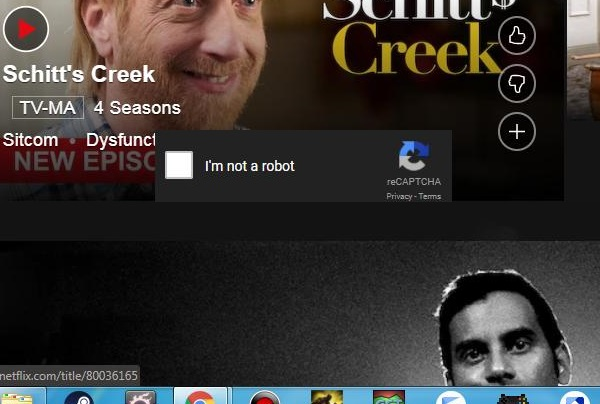captcha: (165, 150, 300, 179)
